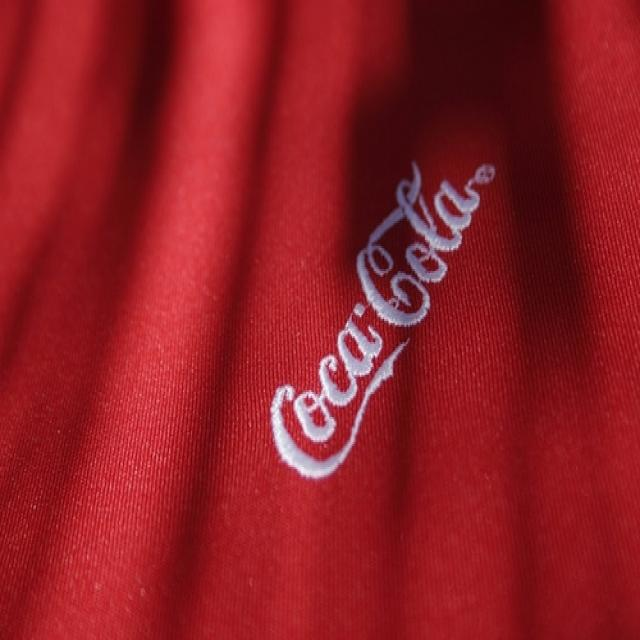cocacola: (262, 155, 485, 491)
